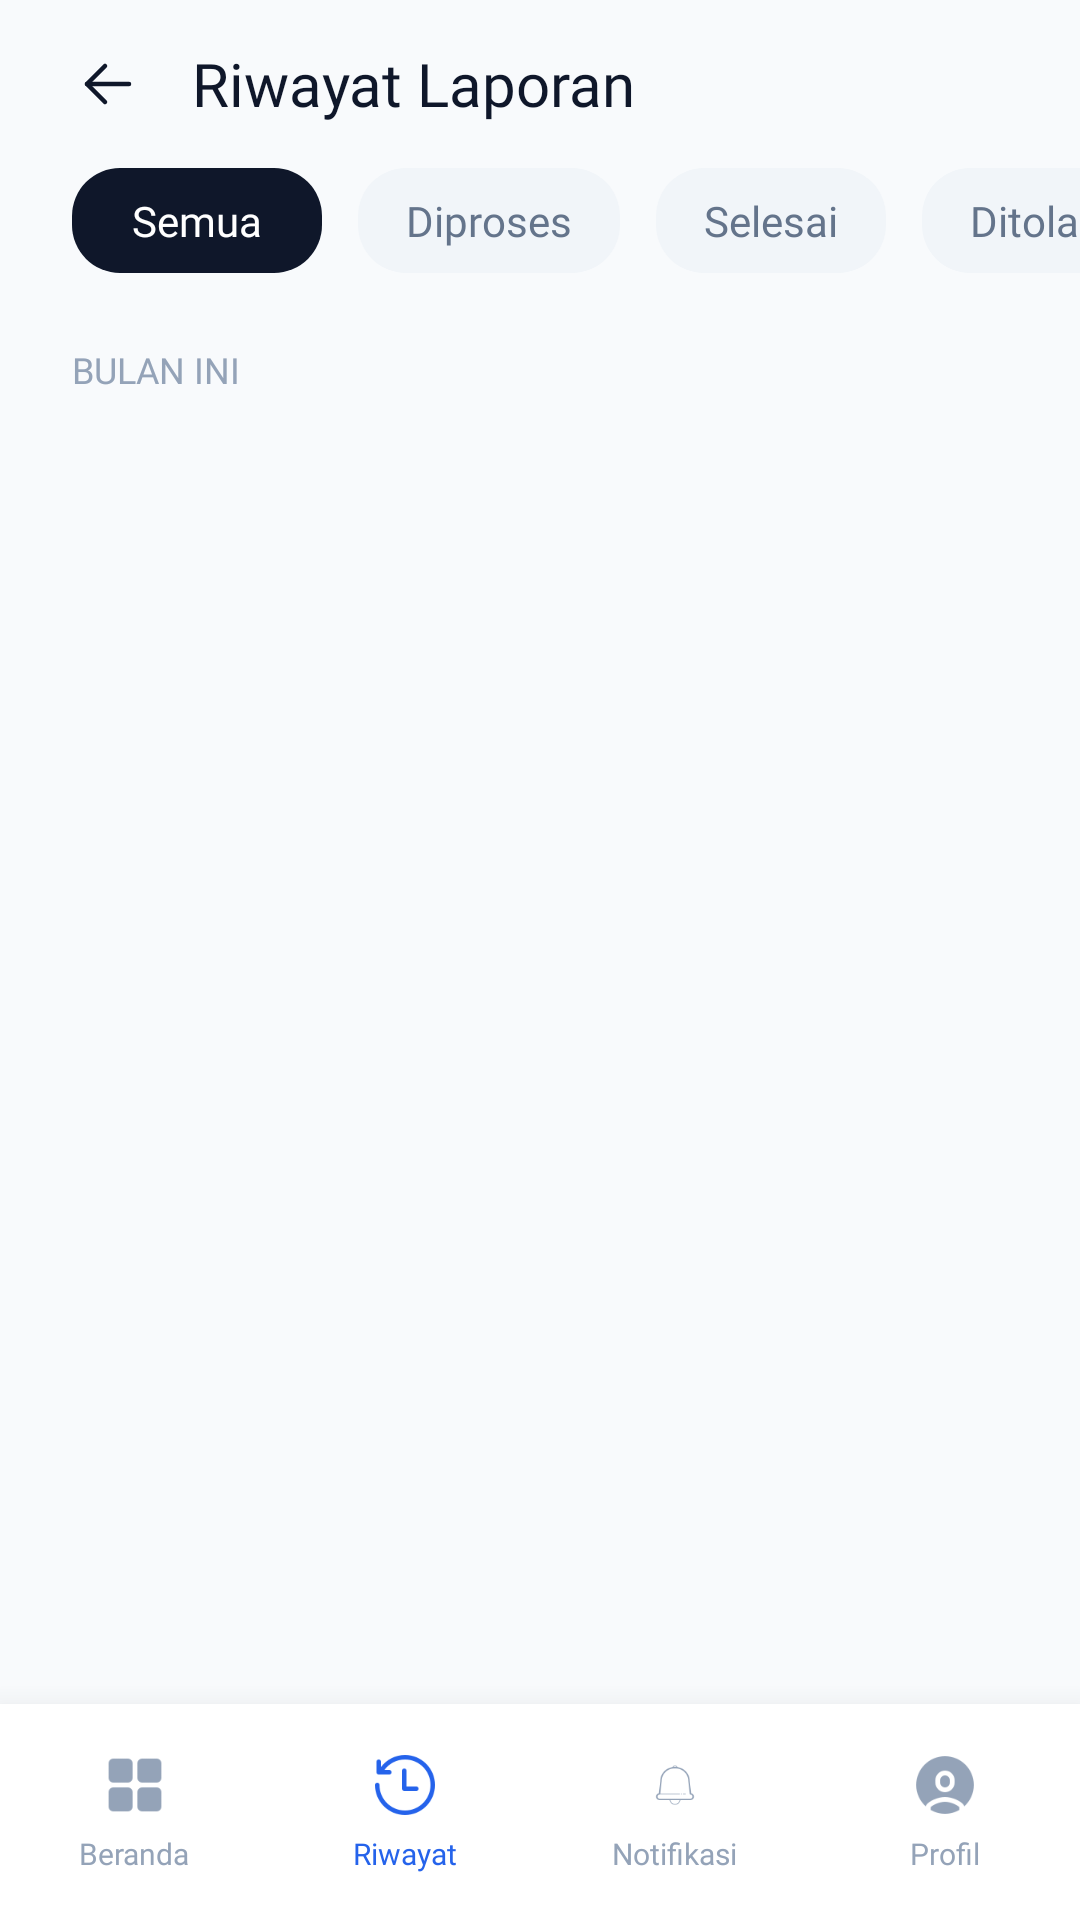

Named icons in this screenshot (1080px x 1920px) and their bounding boxes, [left=x1, top=y1, right=x2, bottom=y2]:
arrow back modern: [left=84, top=63, right=131, bottom=105]
